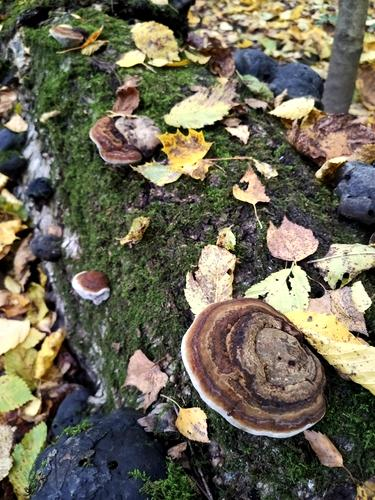Ganoderma - Fruit Body: (184, 296, 326, 439), (86, 106, 170, 169), (71, 264, 113, 307)
